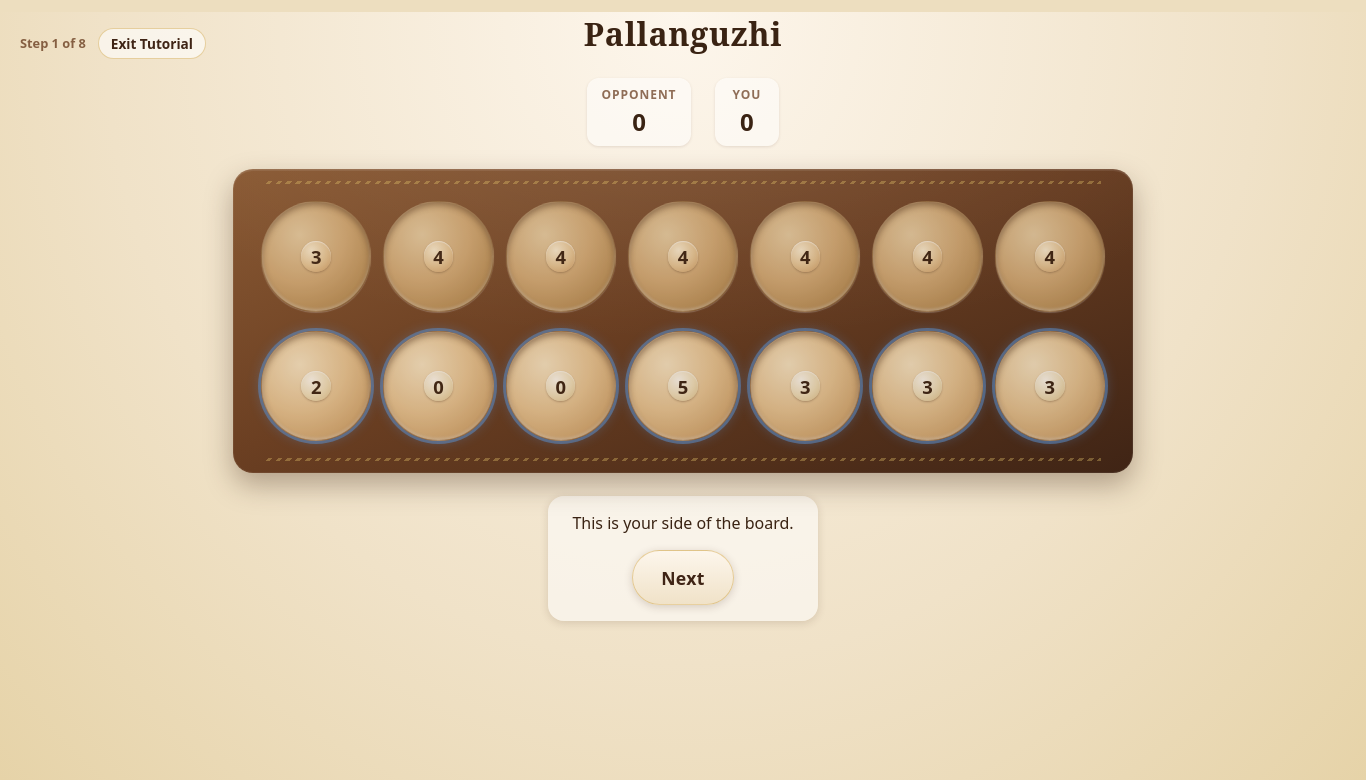
Test: TutorialScreen › tapping the tutorial pit runs the real engine, animates, and produces the deterministic capture
The width and height of the screenshot is (1366, 780).
Click the button "Next": (683, 578) [632, 550, 734, 605]
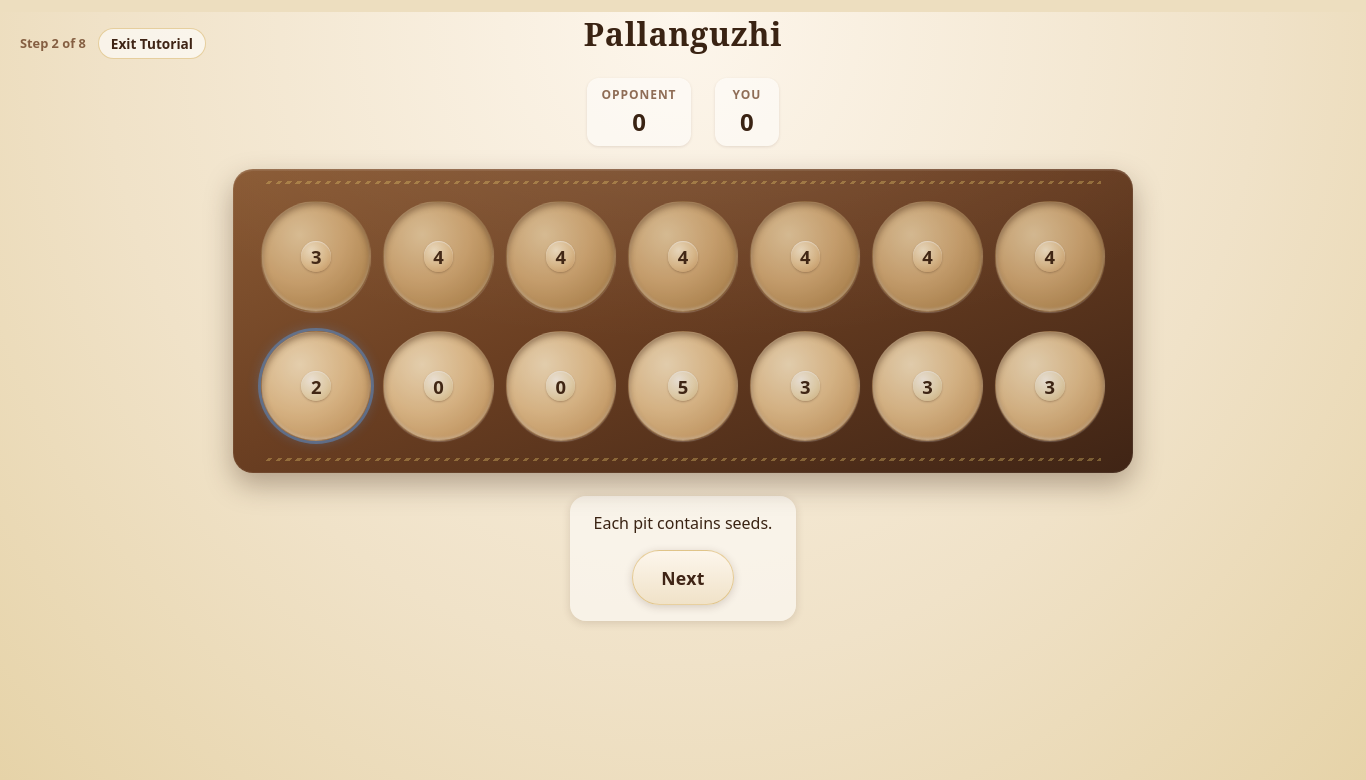
Click the button "Next": (683, 578) [632, 550, 734, 605]
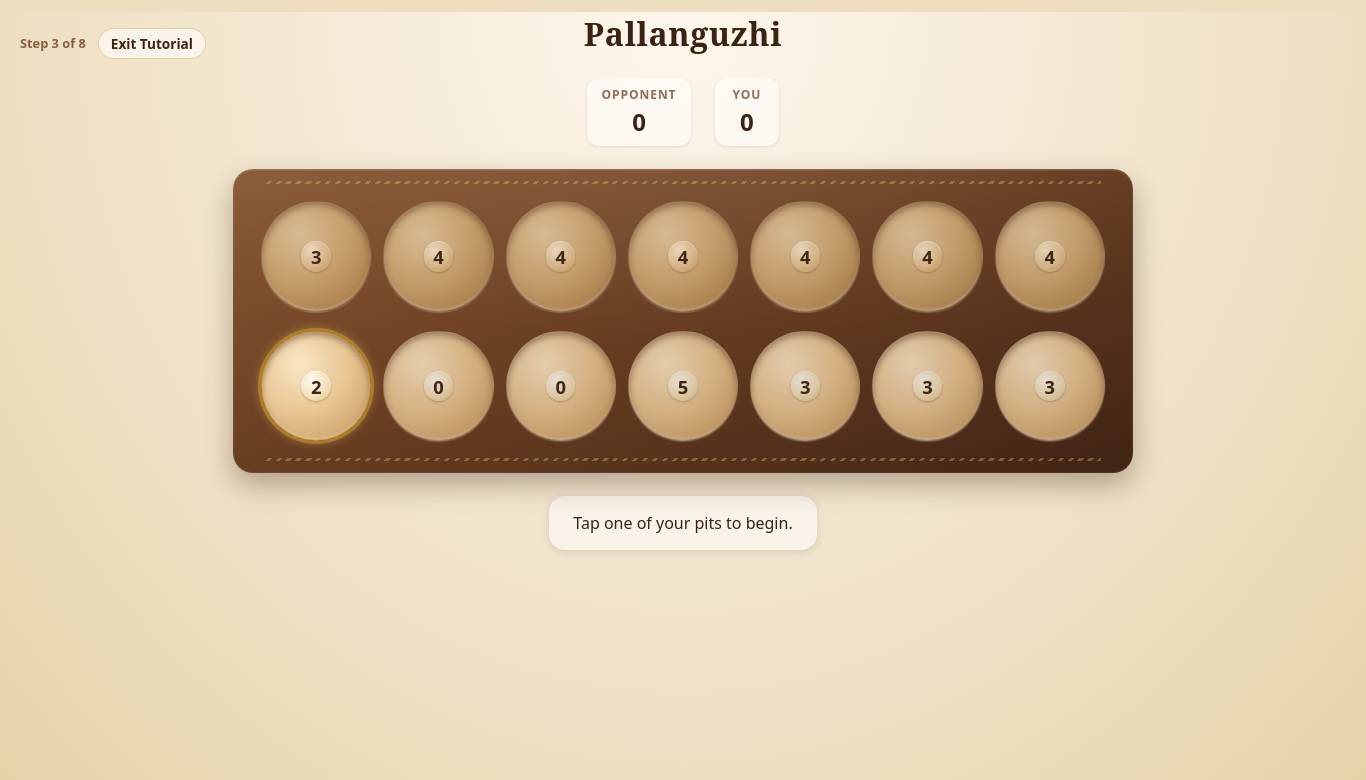
Click the button with test id "pit-7": (316, 386) [261, 331, 371, 441]
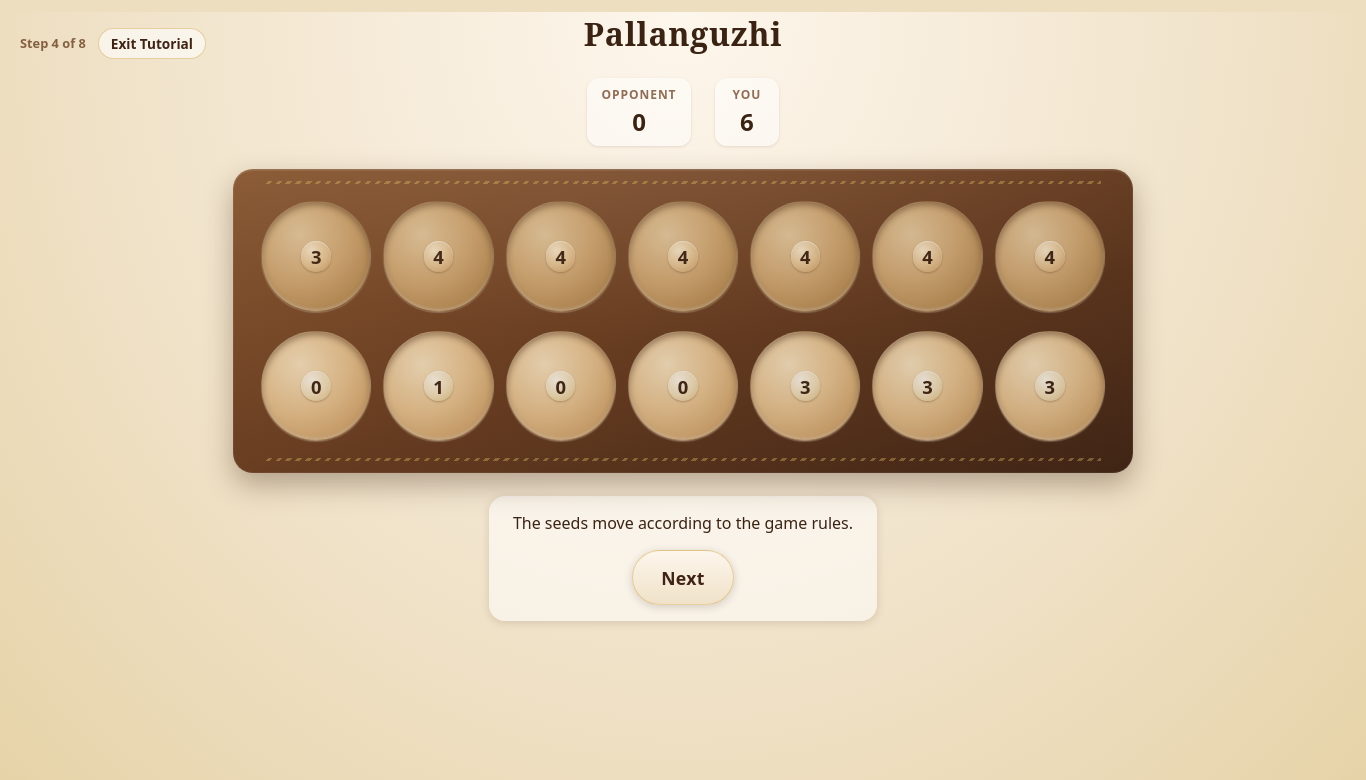
expect the text "0" below "Opponent" is shown: met, box [632, 105, 646, 138]
expect the text "6" is shown: met, box [740, 105, 754, 138]
expect the text "The seeds move according to the game rules." is shown: met, box [513, 512, 853, 534]
